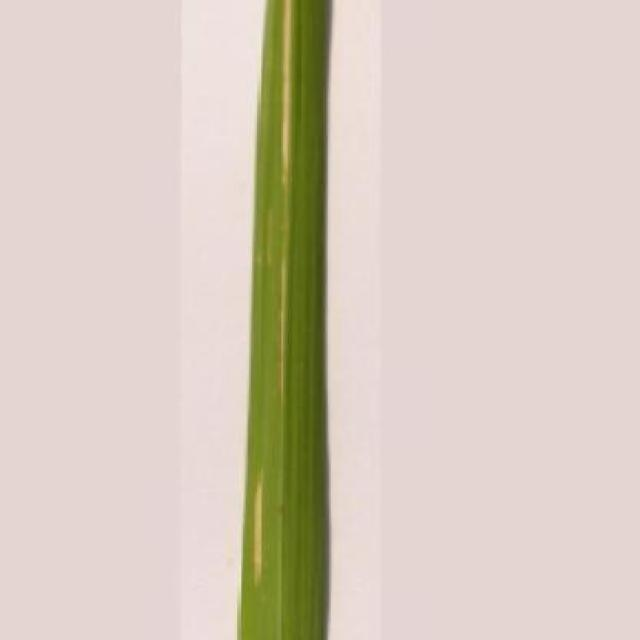Brown_Spot: (232, 0, 336, 640)
